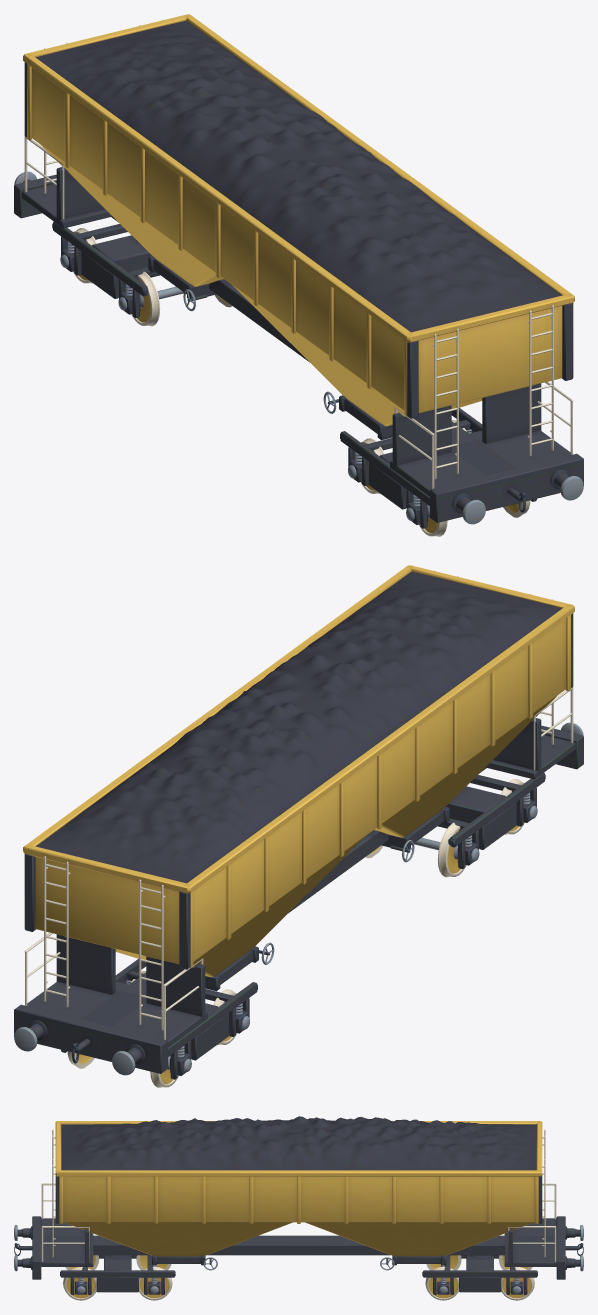
Rendered from hopper-car.glb.
The picture shows the model from 3 angles, top to bottom: view 1: azimuth 30°, elevation 25°; view 2: azimuth 150°, elevation 25°; view 3: azimuth 270°, elevation 25°; orthographic projection. The views are drawn at different scales.
Parts seen in each view (by area): view 1: hopper-car_body; view 2: hopper-car_body; view 3: hopper-car_body.
Boxes of the visible parts, left/top/right/bottom form: hopper-car_body: left=14, top=14, right=583, bottom=536; hopper-car_body: left=14, top=565, right=583, bottom=1087; hopper-car_body: left=14, top=1116, right=583, bottom=1300.
Bounding box in the file's own units: 3 × 4.35 × 14.
Materials: 1 (1 with a texture image).
